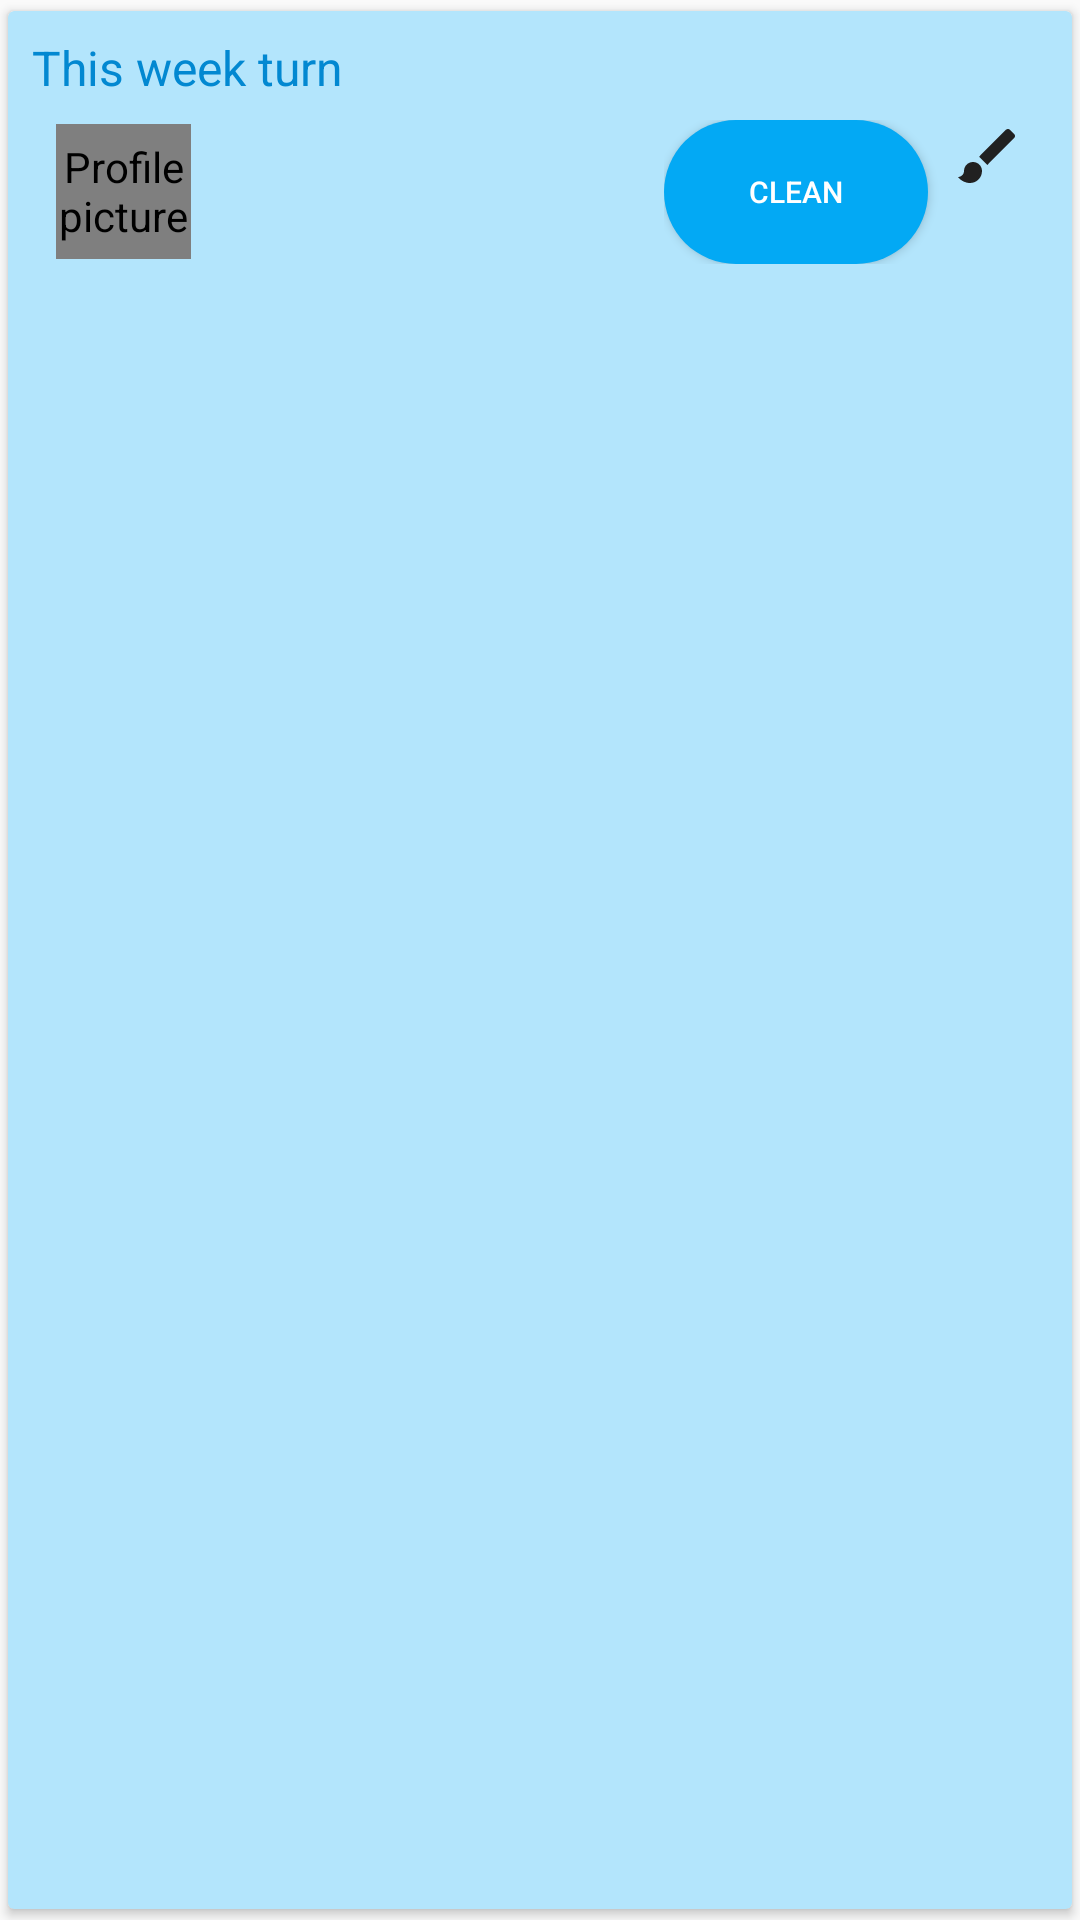

Named icons in this screenshot (1080x1920) and their bounding boxes, detection(x1, y1, x2, y2):
brush: detection(958, 129, 1015, 183)
